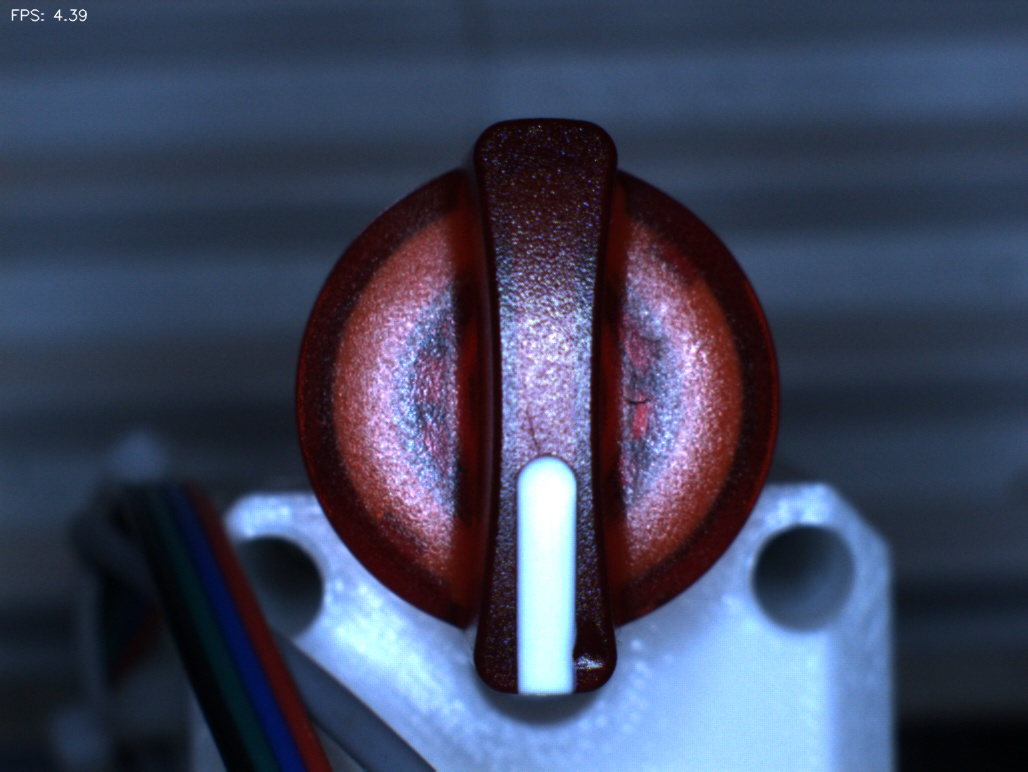Choc: (559, 616, 633, 690)
